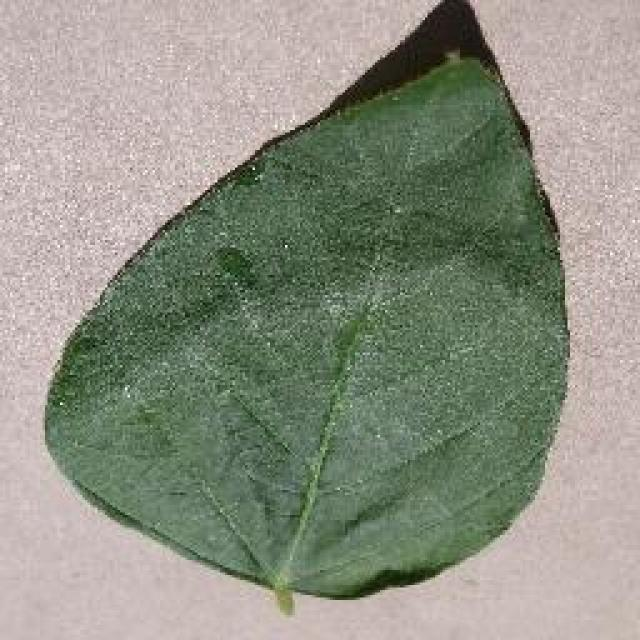Soy_healthy: (116, 58, 556, 542)
